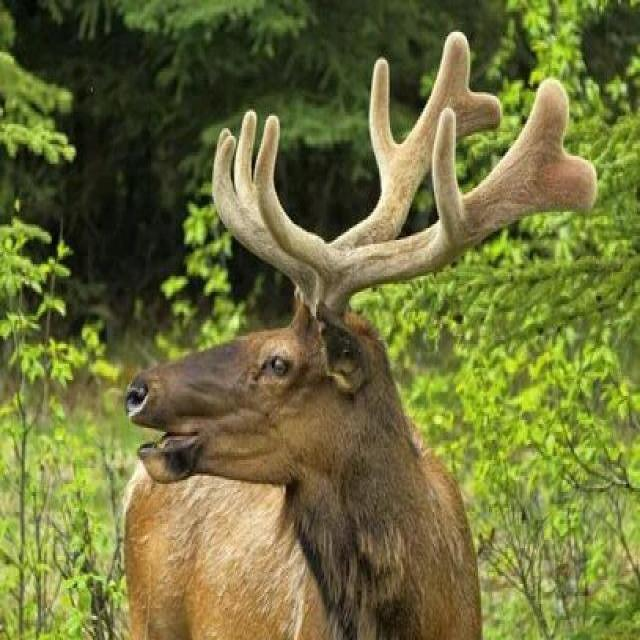deer: (36, 81, 603, 640)
